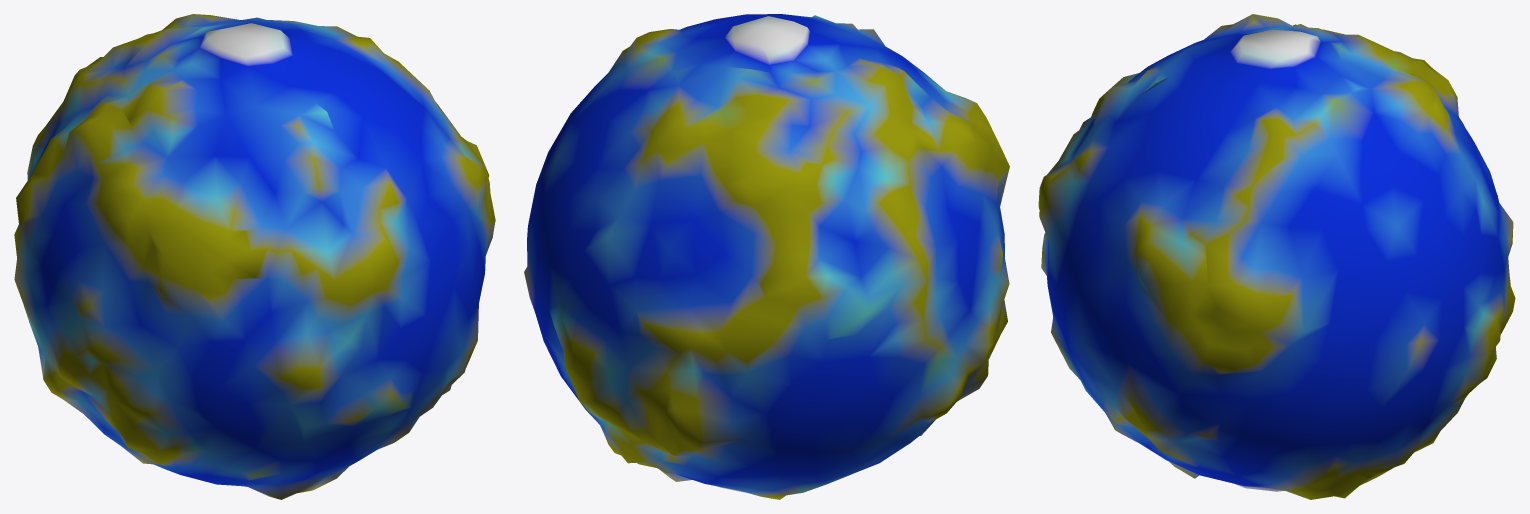
The model's file is Planet2.fbx.
The picture shows the model from 3 angles, left to right: view 1: azimuth 30°, elevation 25°; view 2: azimuth 150°, elevation 25°; view 3: azimuth 270°, elevation 25°; orthographic projection. The views are drawn at different scales.
Parts seen in each view (by area): view 1: Planet2; view 2: Planet2; view 3: Planet2.
Boxes of the visible parts, x1,y1,x2,y2 form: Planet2: [14, 14, 495, 499]; Planet2: [524, 14, 1009, 499]; Planet2: [1038, 14, 1515, 499].
Bounding box in the file's own units: 1.32 × 1.3 × 1.31.
